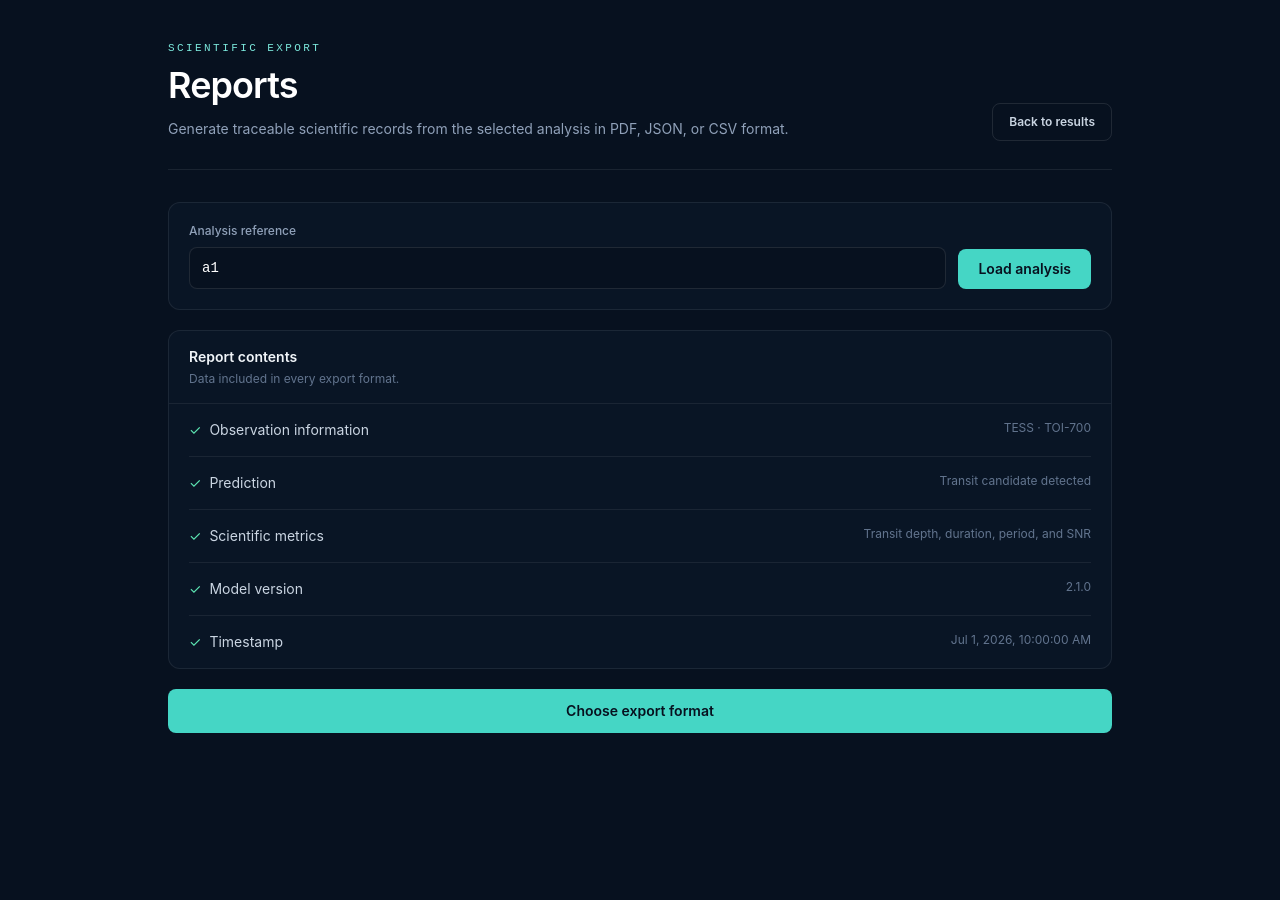
Test case: ReportsPage › opens the export dialog and downloads a generated PDF
The image size is (1280, 900).
Click the button "Choose export format" at [640, 710], box top-left (168, 688), bottom-right (1112, 732)
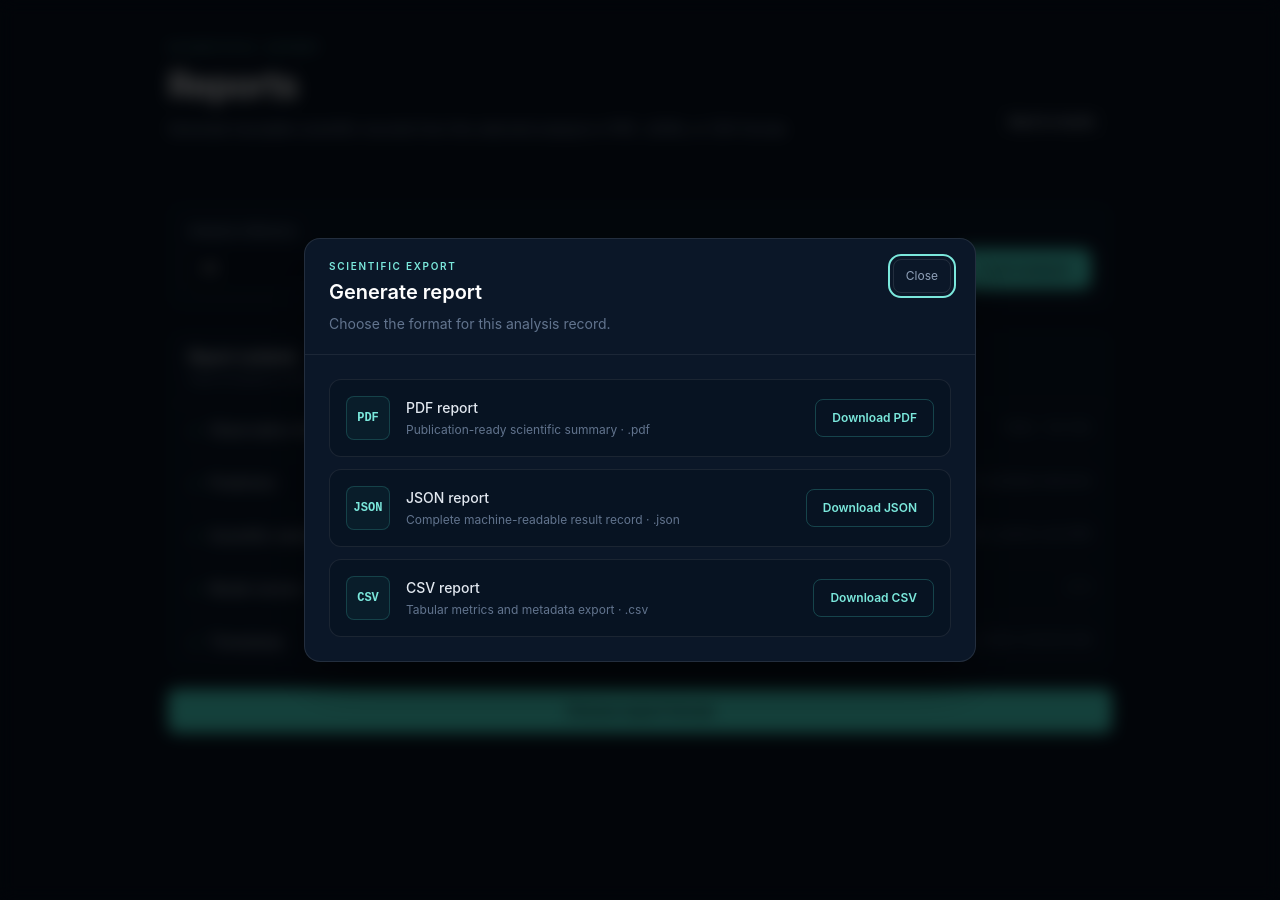
Expected: the dialog "Generate report" is shown, top-left (304, 238), bottom-right (976, 662)
Click the button "Download PDF" at [875, 418], box top-left (815, 399), bottom-right (934, 437)
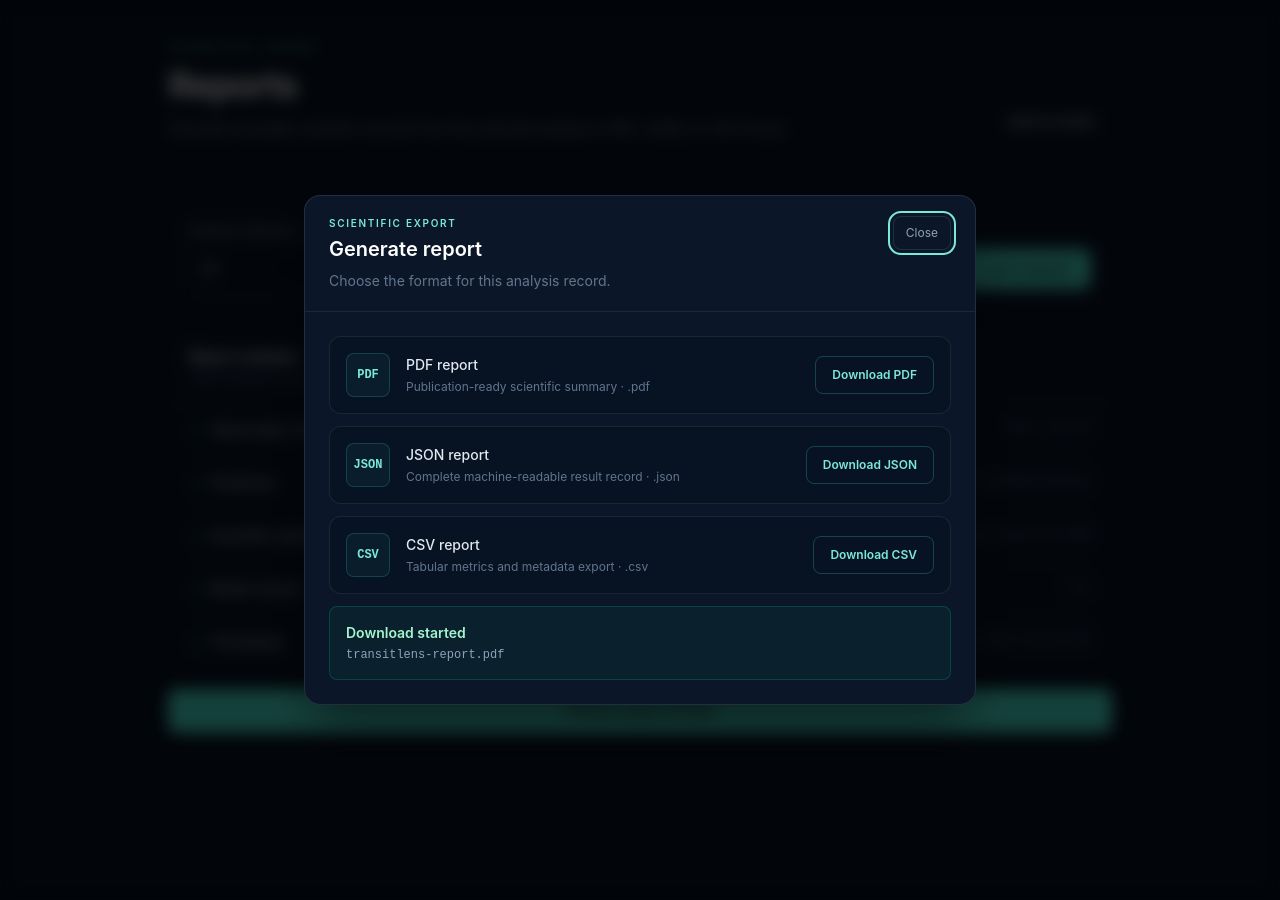
Expected: the text "Download started" is shown, top-left (346, 624), bottom-right (466, 641)
Expected: the text "transitlens-report.pdf" is shown, top-left (346, 648), bottom-right (504, 662)
